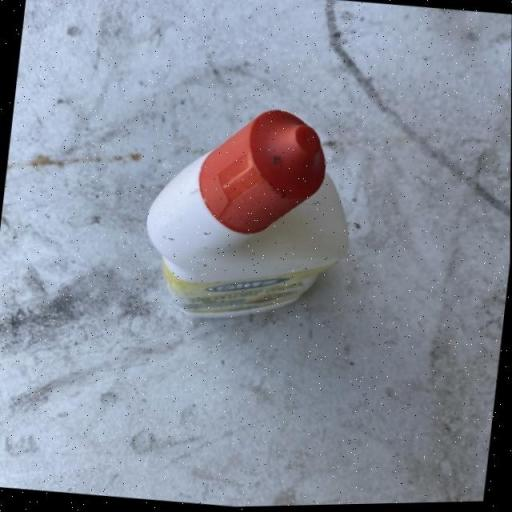plastic: (135, 96, 364, 334)
